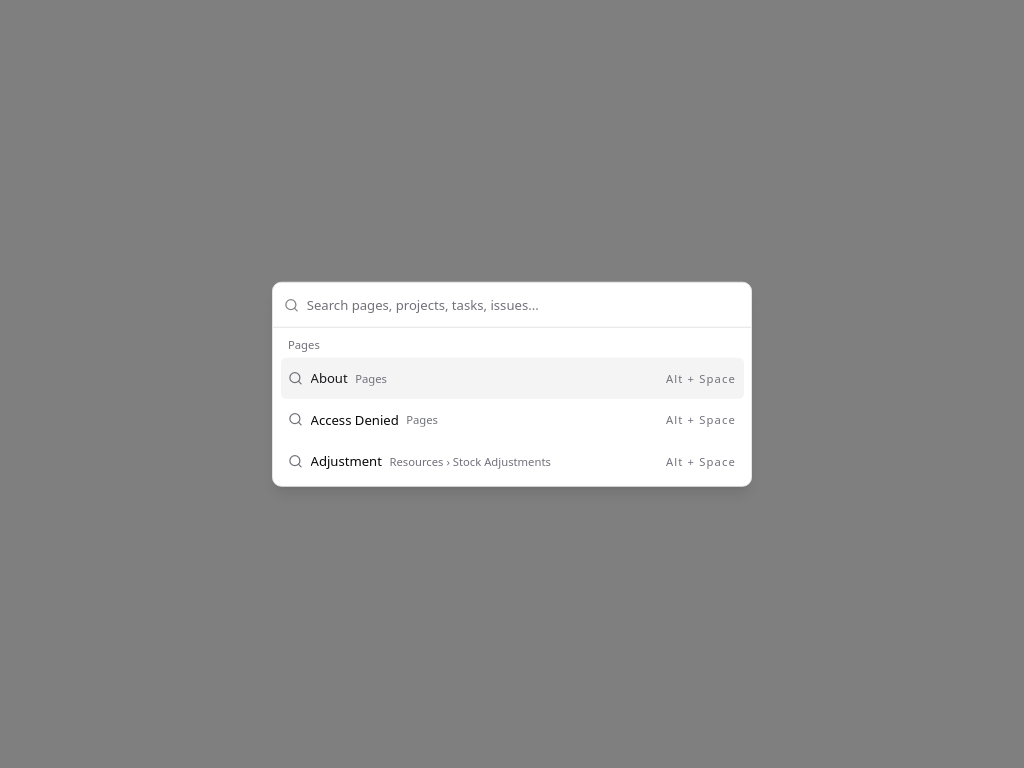
Test: CommandPalette: searching › renders a hit of each kind
Type "tower" into the dropdown with placeholder "Search pages, projects, tasks, issues...".
click(523, 305); type("tower")  # box [307,282,740,327]
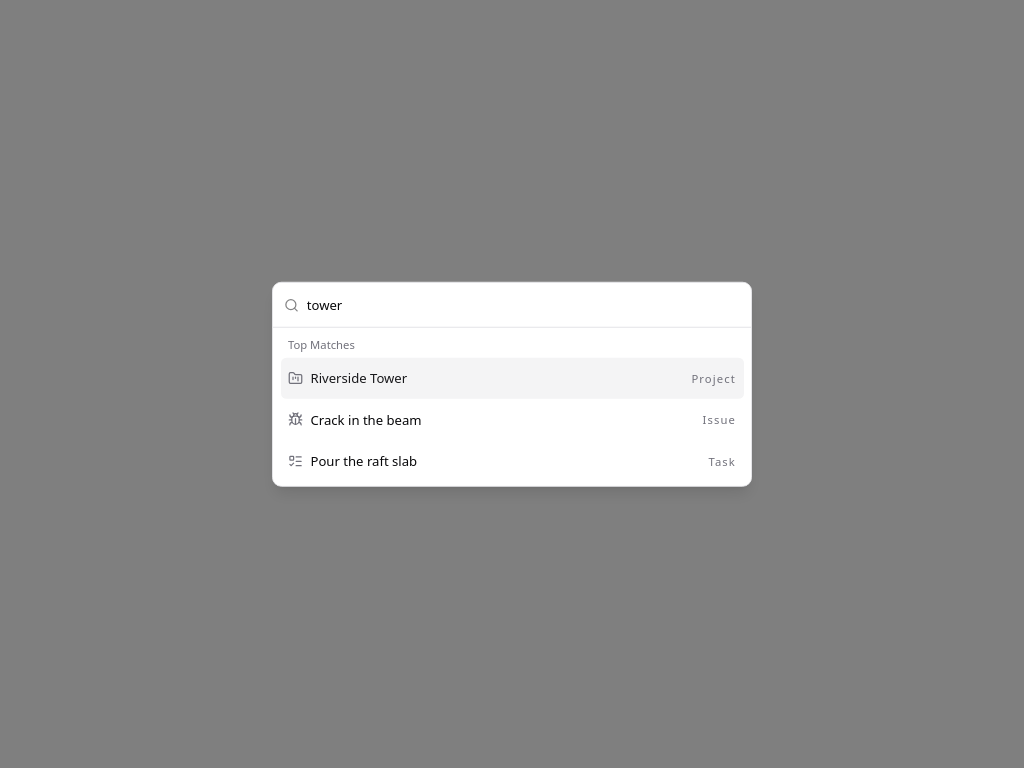
Expected: the text "Riverside Tower" is shown, [310,369,407,388]
Expected: the text "Pour the raft slab" is shown, [310,452,417,470]
Expected: the text "Crack in the beam" is shown, [310,410,422,429]
